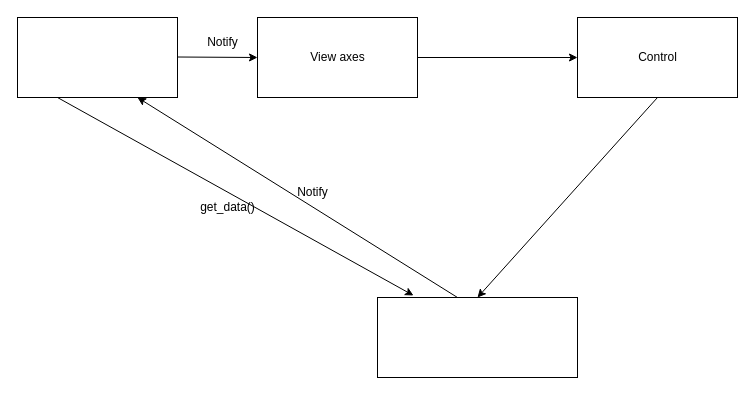
The diagram is 755 pixels wide and 395 high, and some of its shapes have lost their labels. The shapes that lost their labels are listed below. From the top down, each one's box as (x1, y1, x2, y2) in pixels, then its label:
(16, 16, 178, 98): ViewDataRepository
(376, 296, 578, 378): model
